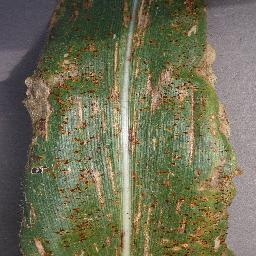Gray_Leaf_Spot: (17, 0, 242, 256)
